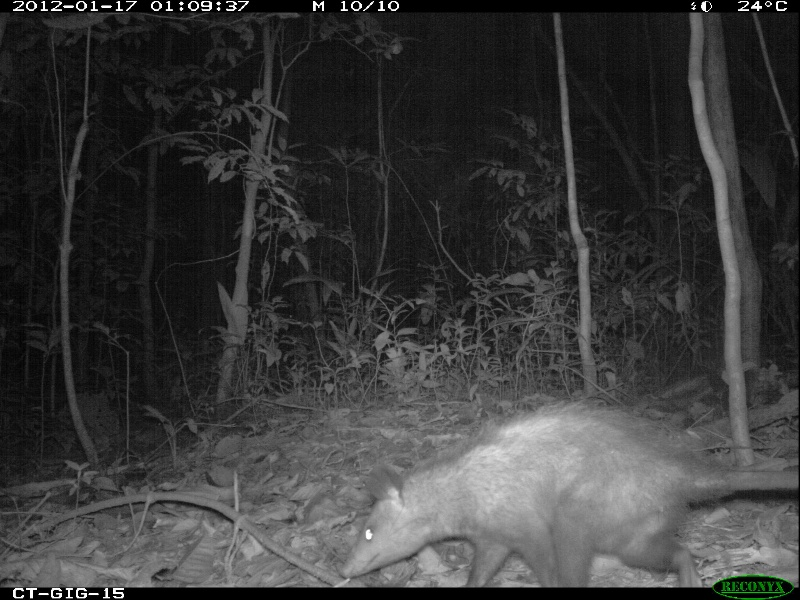opossum: (333, 393, 798, 583)
